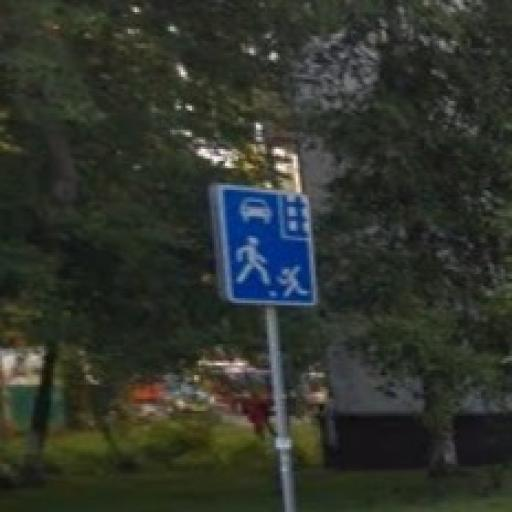traffic_sign: (215, 184, 321, 309)
